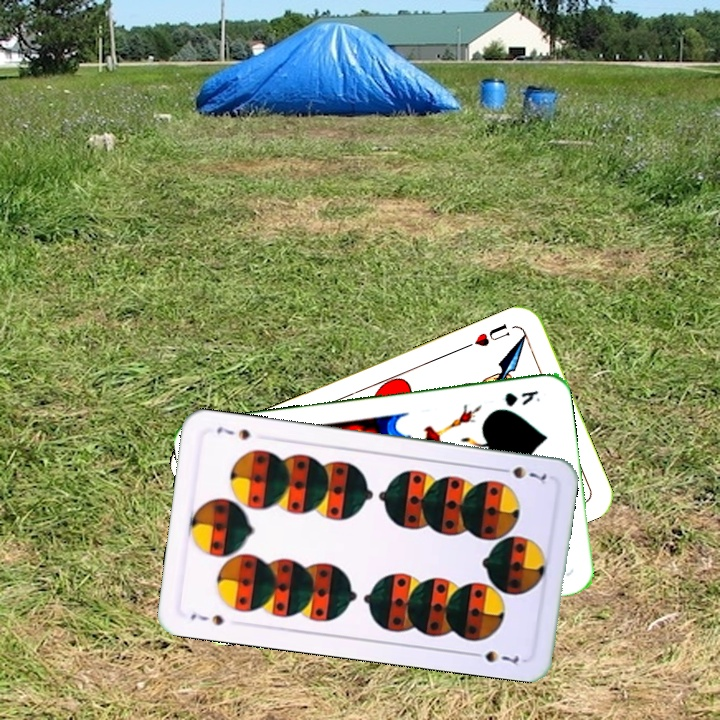GK: (500, 386, 542, 409)
HU: (461, 319, 513, 351)
S7: (493, 462, 549, 487), (186, 608, 226, 628)
